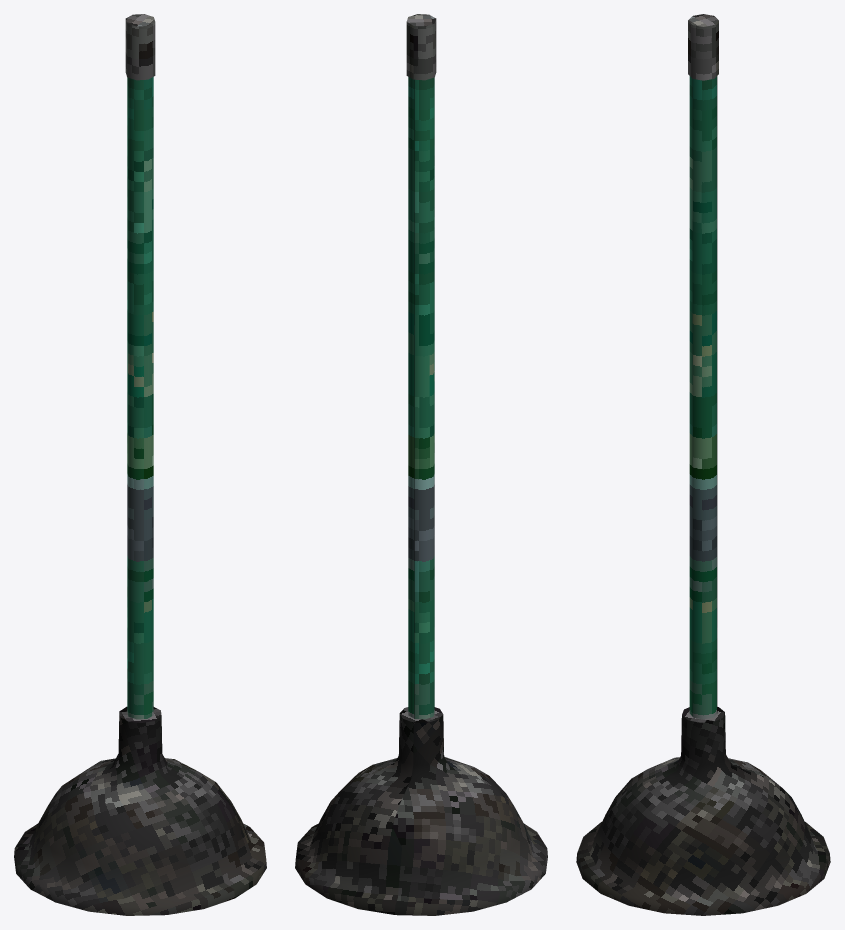
Rendered from 088_Plunger.fbx.
The picture shows the model from 3 angles, left to right: view 1: azimuth 30°, elevation 25°; view 2: azimuth 150°, elevation 25°; view 3: azimuth 270°, elevation 25°; orthographic projection.
Visible parts, largest first — view 1: LOD_1_Group_0_Sub_1__sm30_088_Plunger01A_A_Mat; view 2: LOD_1_Group_0_Sub_1__sm30_088_Plunger01A_A_Mat; view 3: LOD_1_Group_0_Sub_1__sm30_088_Plunger01A_A_Mat.
Part boxes in pixels (x1,y1,x2,y2): LOD_1_Group_0_Sub_1__sm30_088_Plunger01A_A_Mat: [14, 14, 266, 915]; LOD_1_Group_0_Sub_1__sm30_088_Plunger01A_A_Mat: [295, 14, 547, 915]; LOD_1_Group_0_Sub_1__sm30_088_Plunger01A_A_Mat: [576, 14, 830, 915].
Size of the model in its own units: 0.1846 by 0.6746 by 0.1846.
